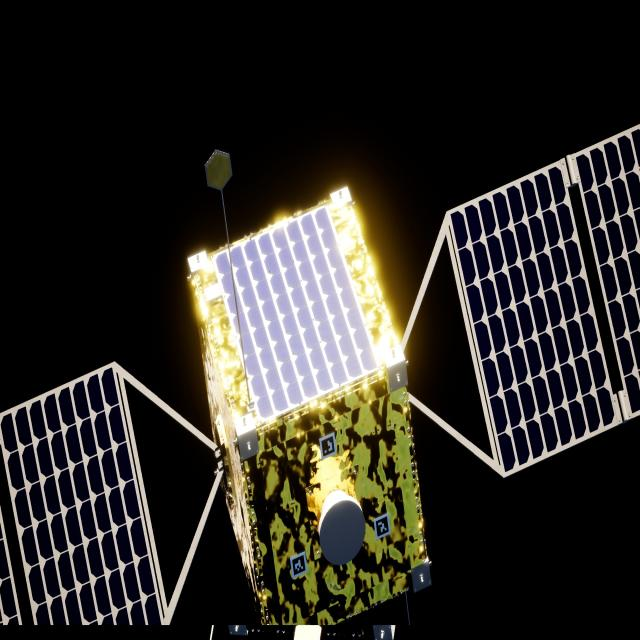satellite: (0, 125, 640, 629)
